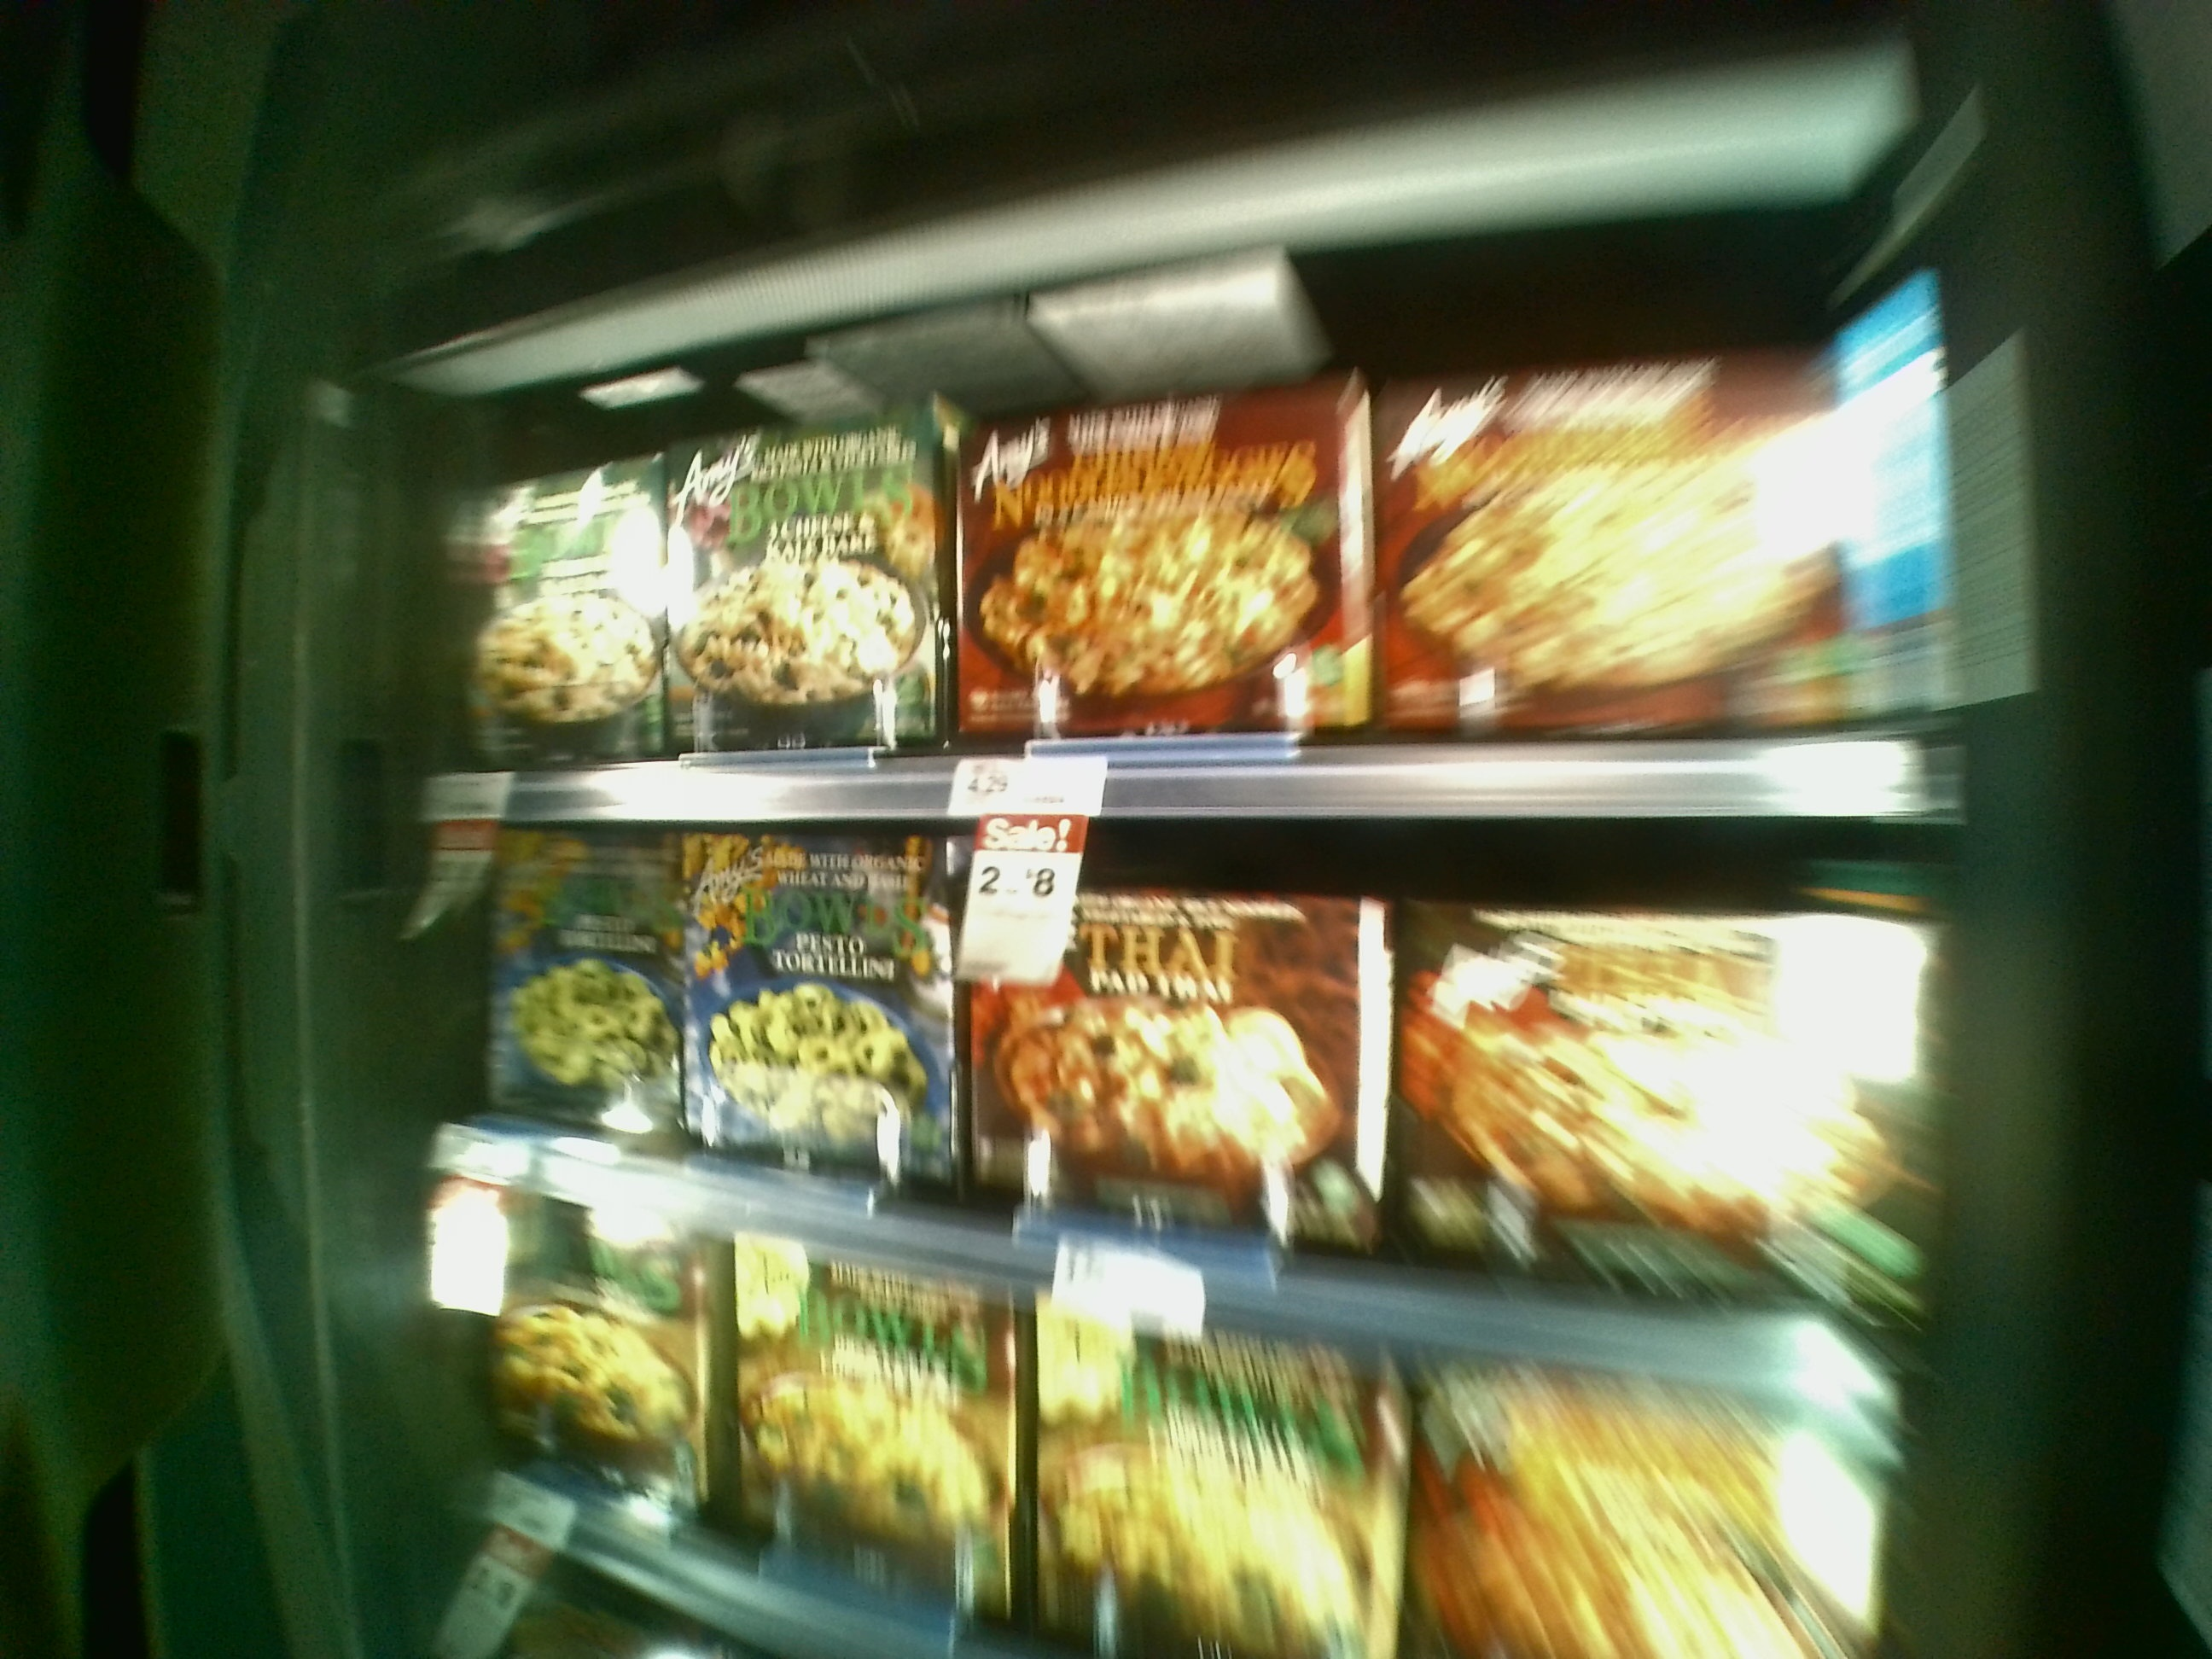shelf: (444, 824, 1935, 1380), (434, 380, 1958, 838)
